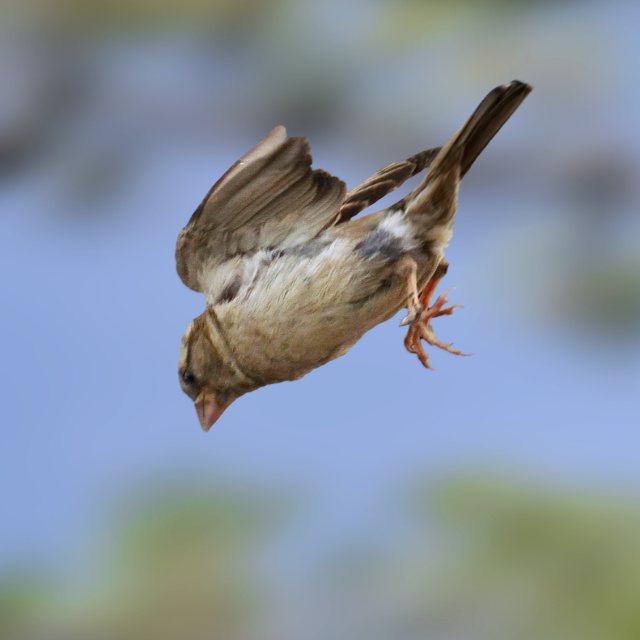Sparrow: (175, 77, 534, 431)
